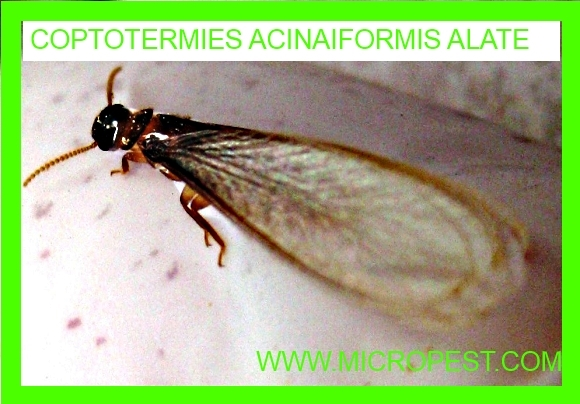flying termite: (25, 68, 541, 336)
